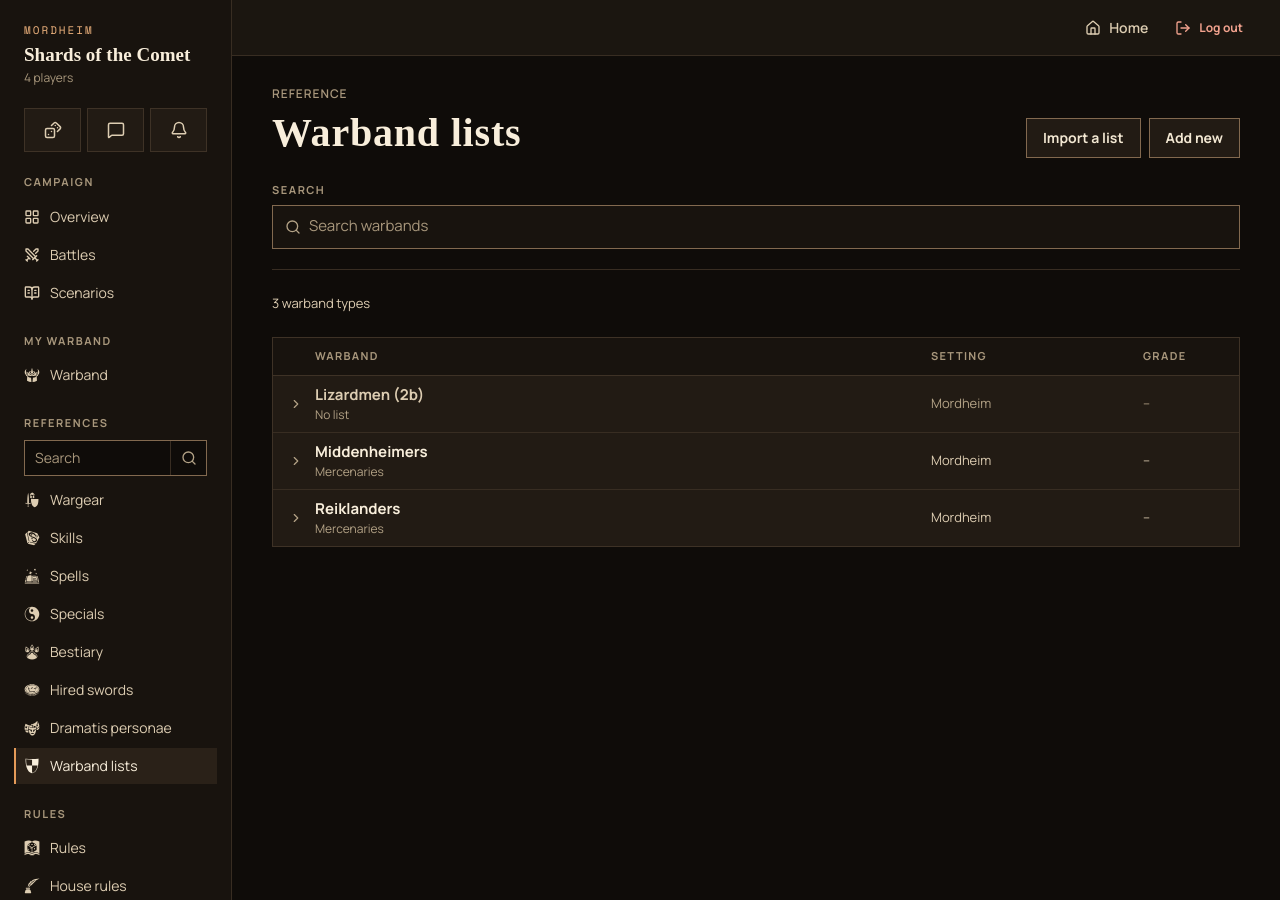
Test case: Making and editing templates on the Warbands page › lists a type in play with no list, which opens to Make a list
Click the button "Lizardmen (2b) No list Mordheim –".
click(370, 394)  # box [273,376,1239,432]
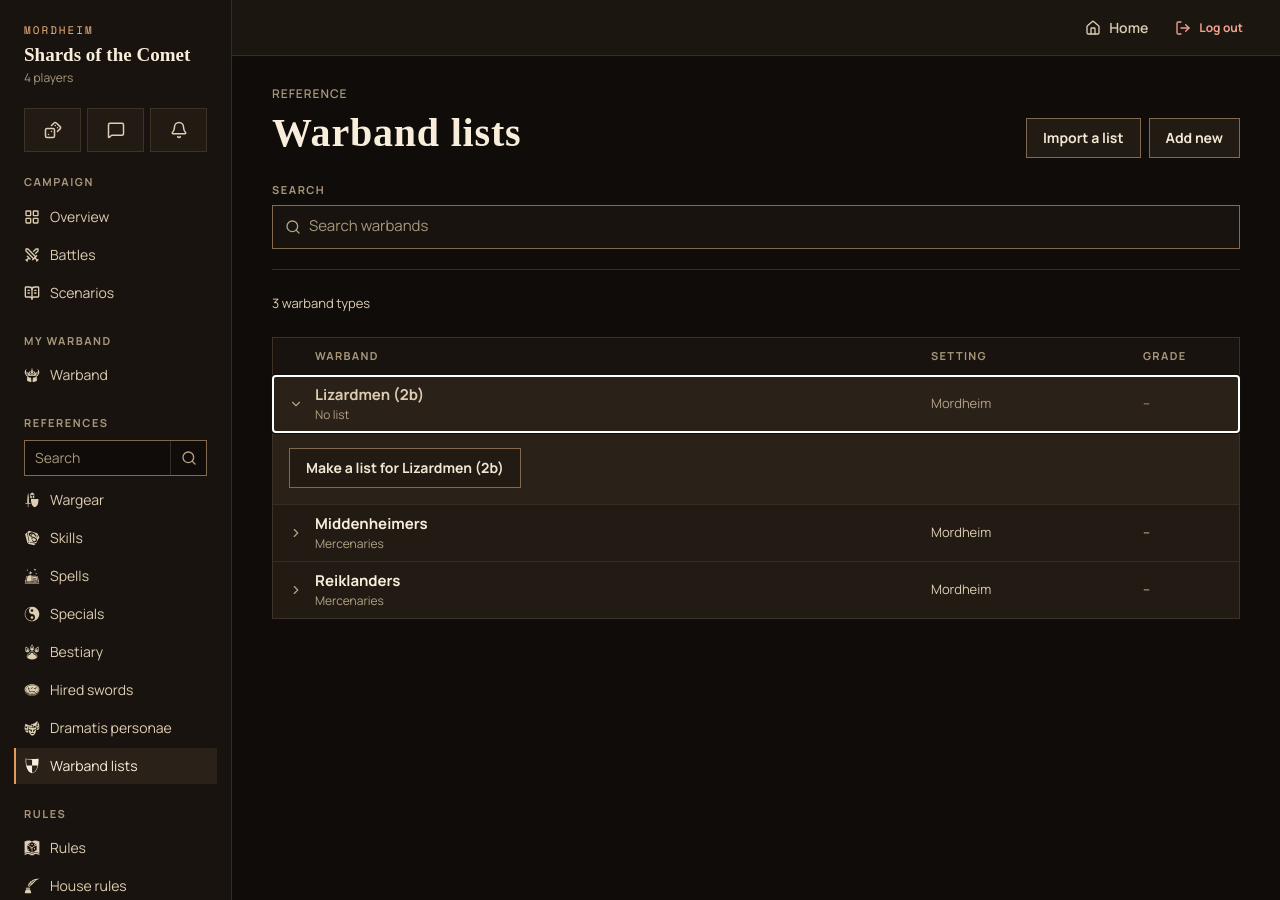
Click the button "Make a list for Lizardmen (2b)".
click(405, 468)  # box [289,448,521,488]
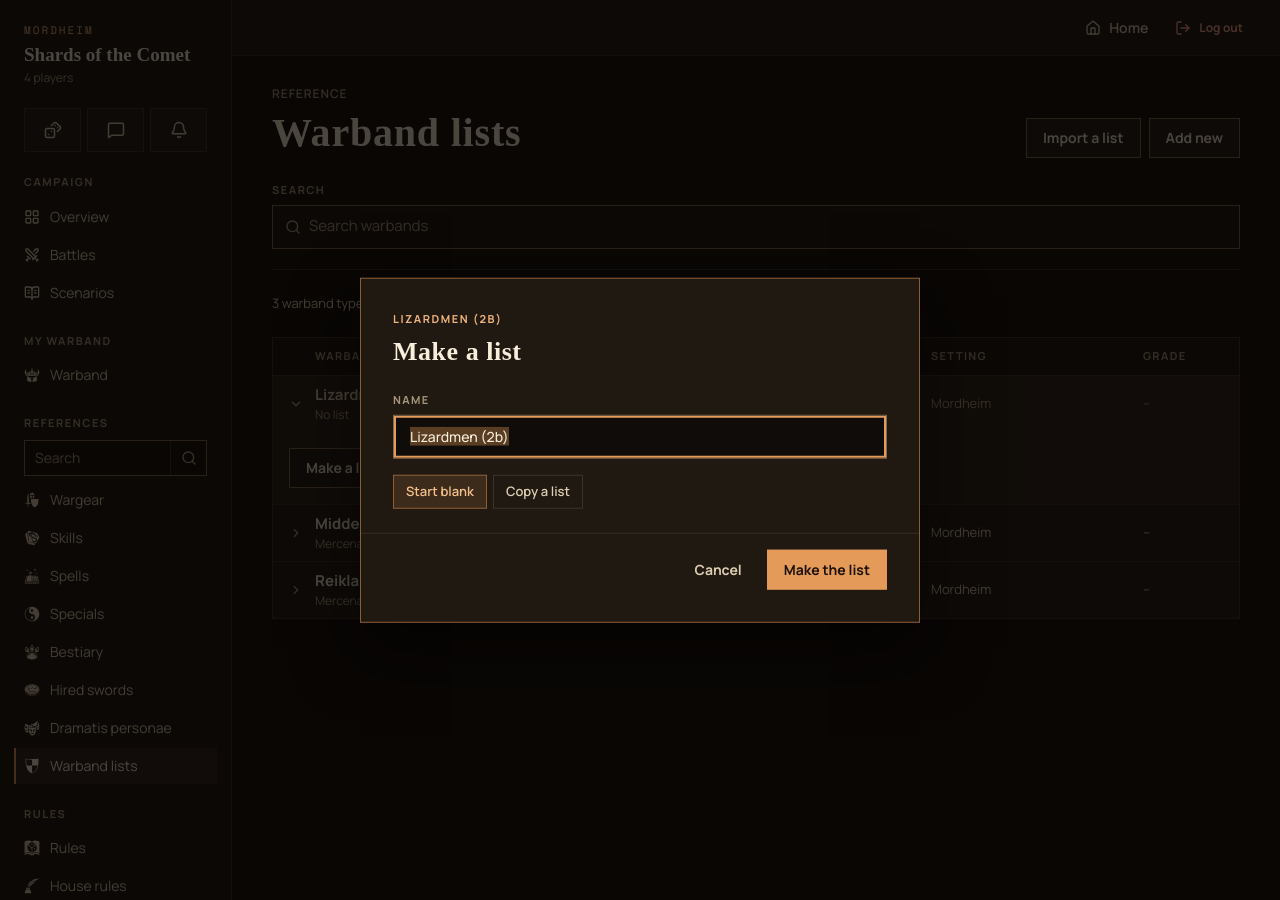
Expected: the field holds "Lizardmen (2b)", [393,414,887,458]
